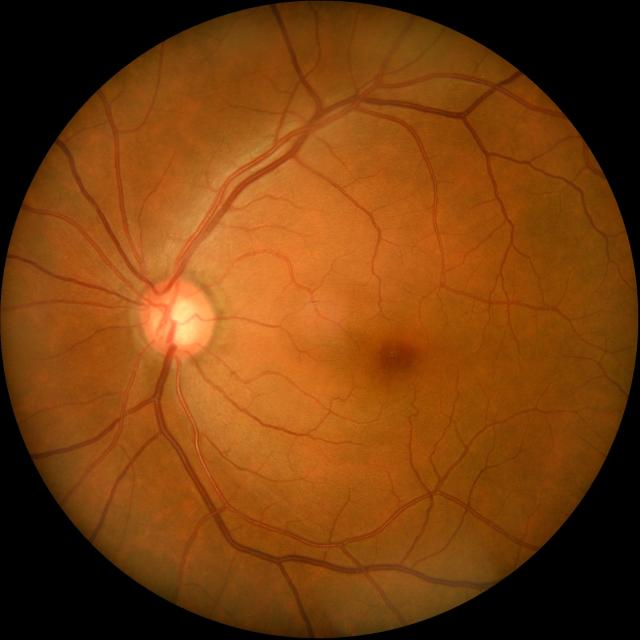OC: (151, 296, 200, 346)
OD: (138, 280, 214, 359)
